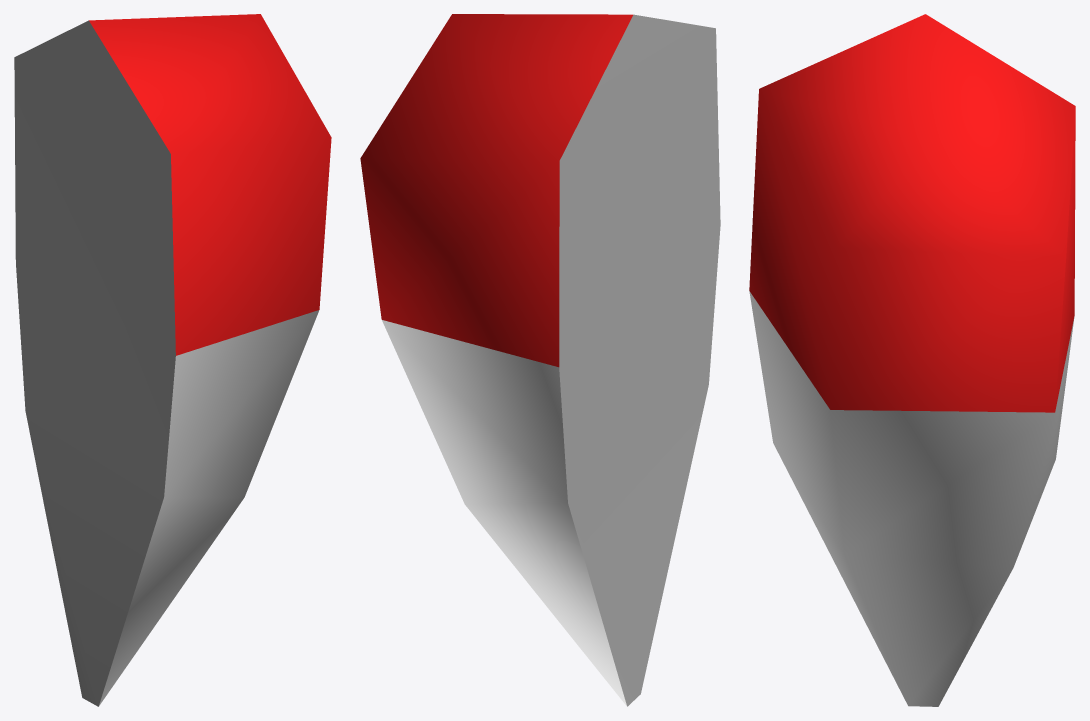
File: ShoeRight.obj
3 views of the same model, side by side, from view 1: azimuth 30°, elevation 25°; view 2: azimuth 150°, elevation 25°; view 3: azimuth 270°, elevation 25° (orthographic).
Size of the model in its own units: 1.04 by 3.36 by 1.43.
Materials: 3 (3 with a texture image).
